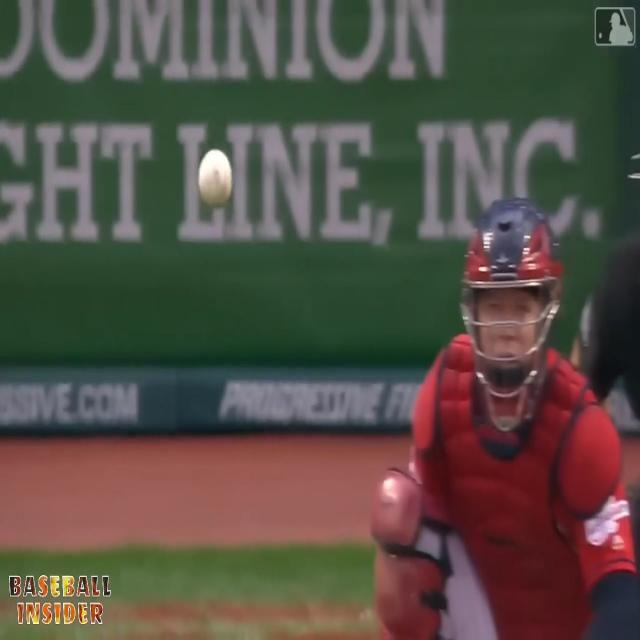baseball: (197, 147, 233, 210)
